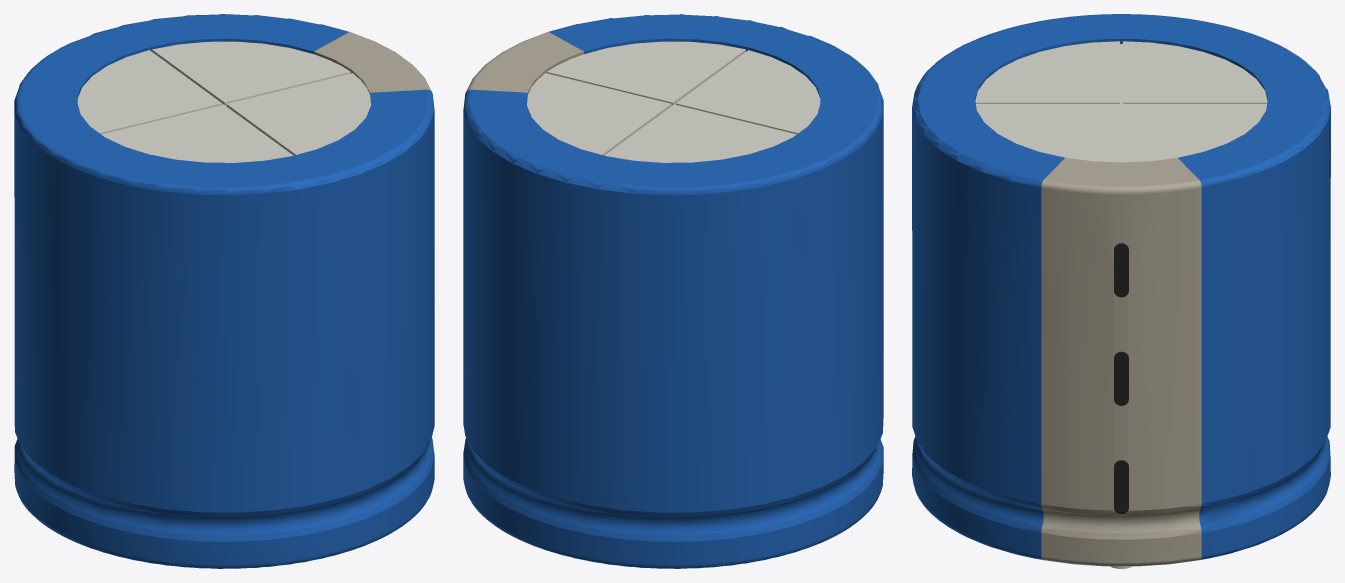
Rendered from kc-cp_radial_d14.0mm_p5.00mm.glb.
The picture shows the model from 3 angles, left to right: view 1: azimuth 30°, elevation 25°; view 2: azimuth 150°, elevation 25°; view 3: azimuth 270°, elevation 25°; orthographic projection.
Parts seen in each view (by area): view 1: 0_0.16666666666666666_0.5_0, 0.6666666666666666_0.6666666666666666_0.5833333333333334_0.8, 0.4166666666666667_0.4166666666666667_0.3333333333333333_0; view 2: 0_0.16666666666666666_0.5_0, 0.6666666666666666_0.6666666666666666_0.5833333333333334_0.8, 0.4166666666666667_0.4166666666666667_0.3333333333333333_0; view 3: 0_0.16666666666666666_0.5_0, 0.4166666666666667_0.4166666666666667_0.3333333333333333_0, 0.6666666666666666_0.6666666666666666_0.5833333333333334_0.8, 0_0_0_0.
Part boxes in pixels (x1,y1,x2,y2): 0_0.16666666666666666_0.5_0: [14, 14, 434, 568]; 0.6666666666666666_0.6666666666666666_0.5833333333333334_0.8: [77, 41, 370, 162]; 0.4166666666666667_0.4166666666666667_0.3333333333333333_0: [314, 32, 431, 94]; 0_0.16666666666666666_0.5_0: [463, 14, 883, 568]; 0.6666666666666666_0.6666666666666666_0.5833333333333334_0.8: [527, 41, 820, 162]; 0.4166666666666667_0.4166666666666667_0.3333333333333333_0: [466, 32, 583, 94]; 0_0.16666666666666666_0.5_0: [912, 14, 1330, 559]; 0.4166666666666667_0.4166666666666667_0.3333333333333333_0: [1041, 158, 1201, 566]; 0.6666666666666666_0.6666666666666666_0.5833333333333334_0.8: [975, 41, 1267, 568]; 0_0_0_0: [1114, 243, 1128, 513].
Size of the model in its own units: 1.4 by 1.6 by 1.4.
